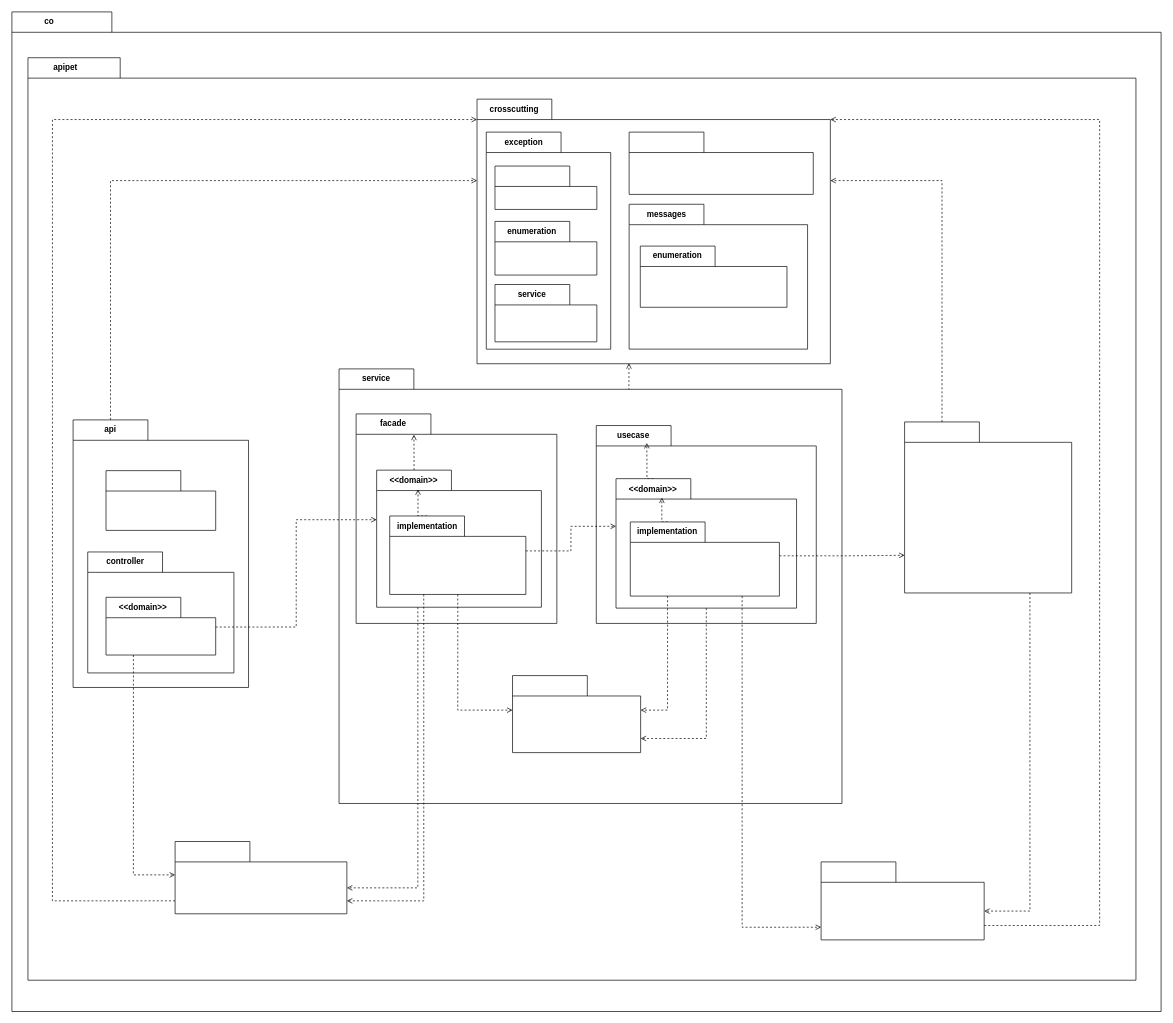
The diagram is 1173 pixels wide and 1023 high, and some of its shapes have lost their labels. The shapes that lost their labels are listed below. From the top down, each one's centre as x and y in pixels, then its label:
[720,162]: helper
[545,187]: data
[160,500]: init
[988,507]: repository
[576,714]: domain
[260,877]: dto
[902,900]: entity
